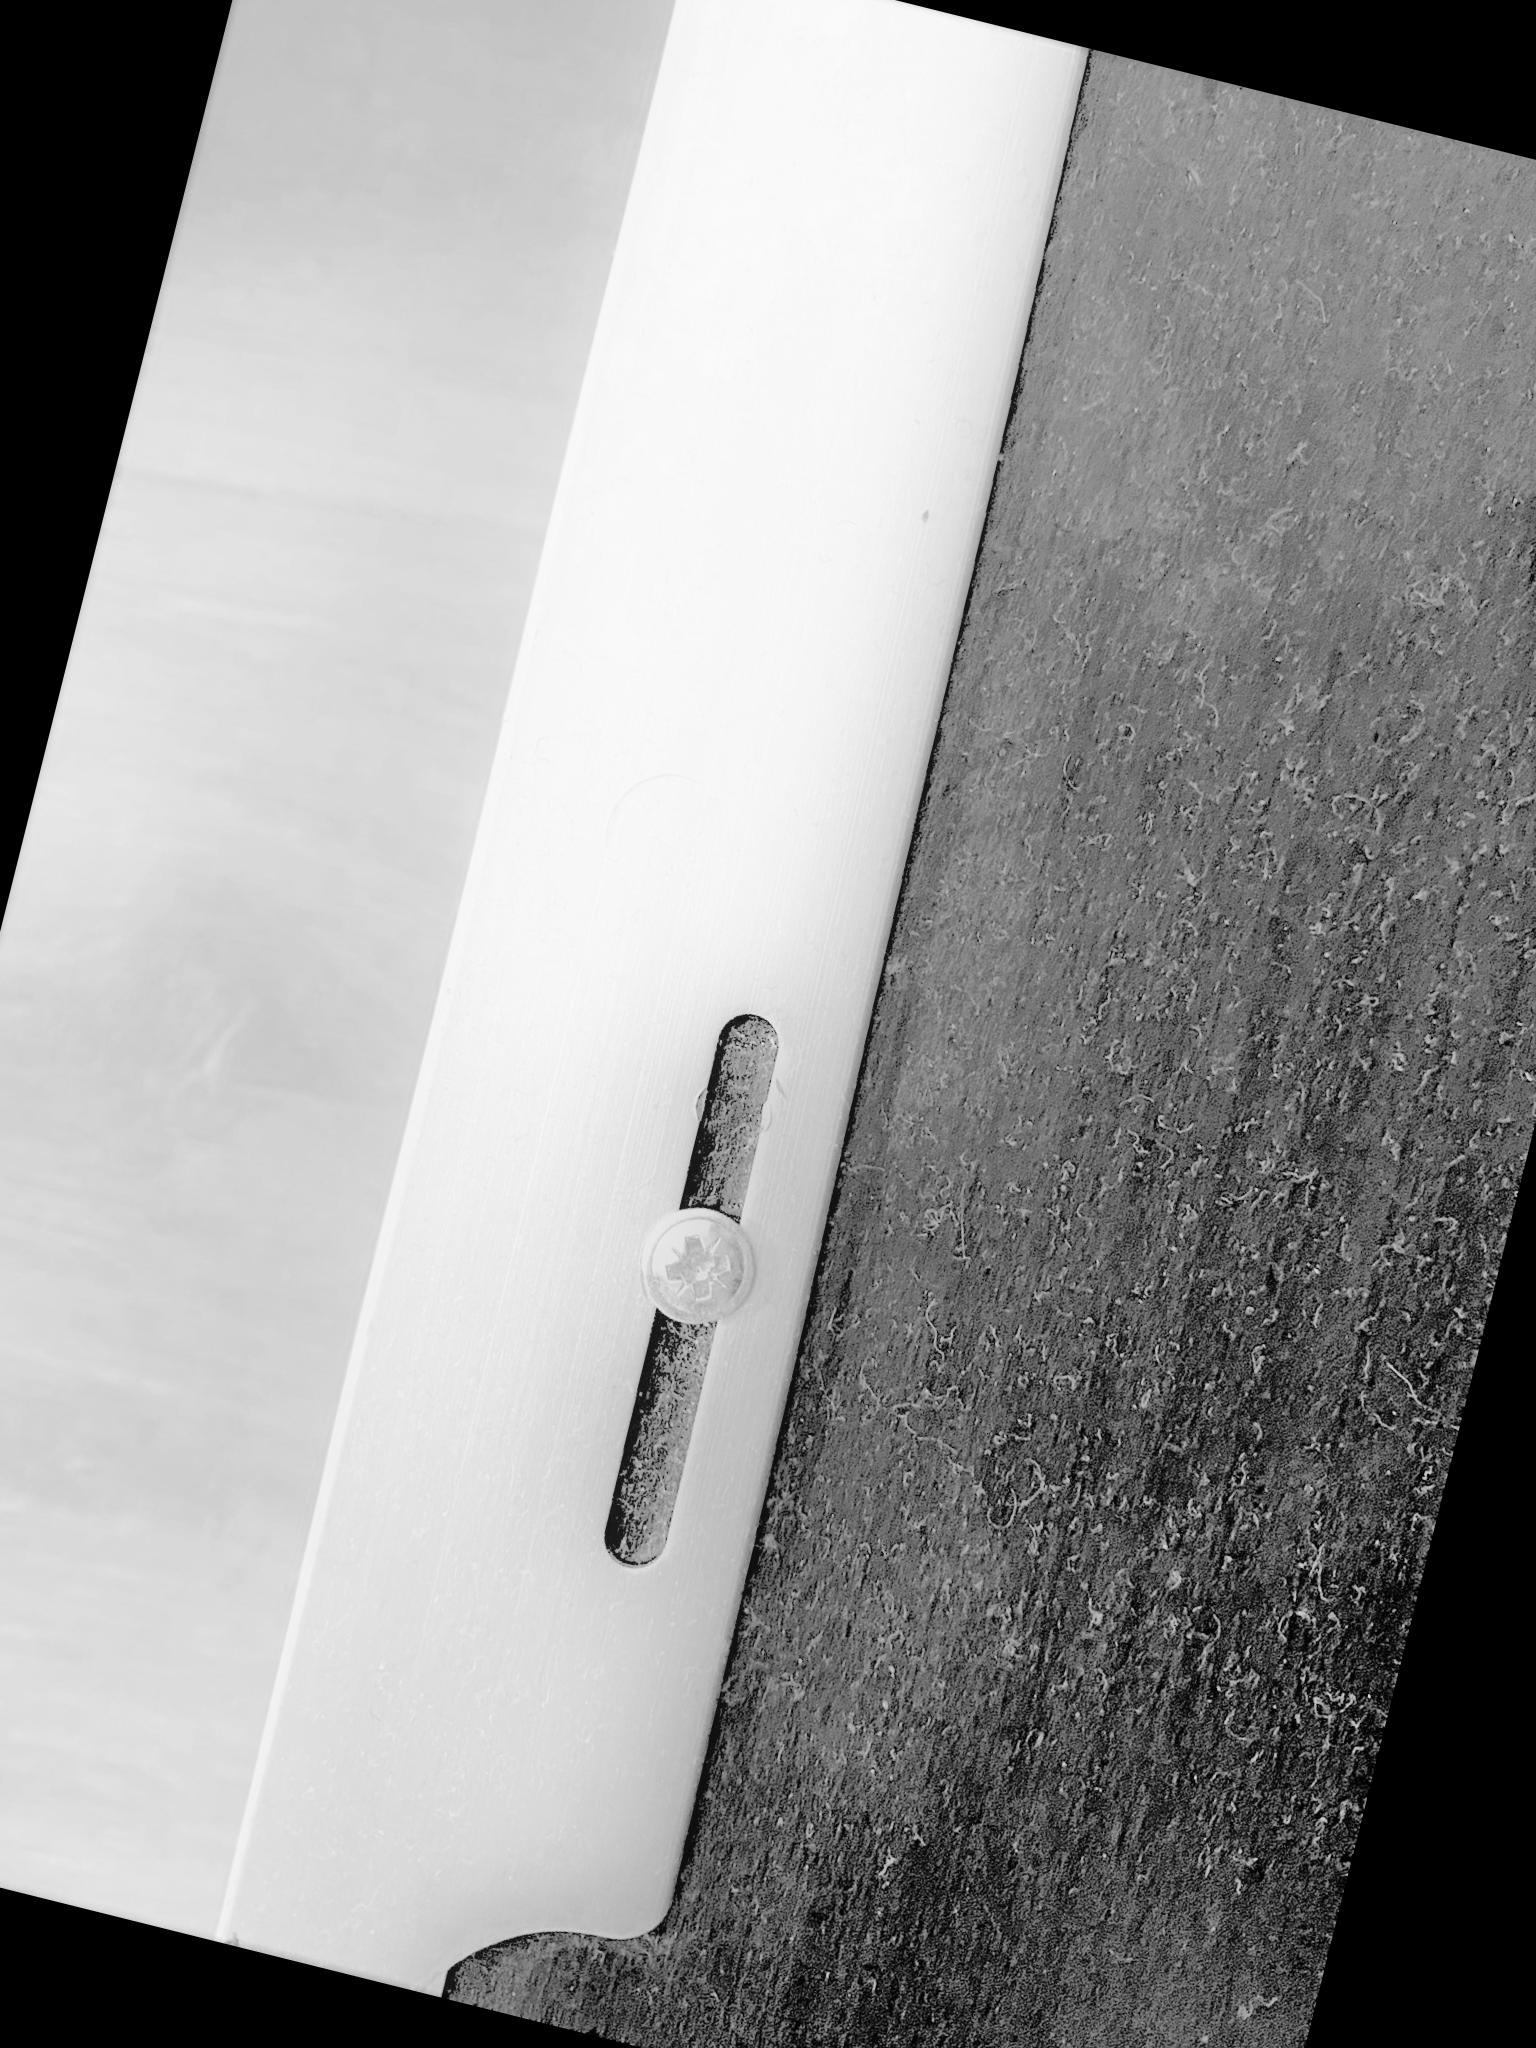philips-PZ: (624, 1193, 766, 1337)
